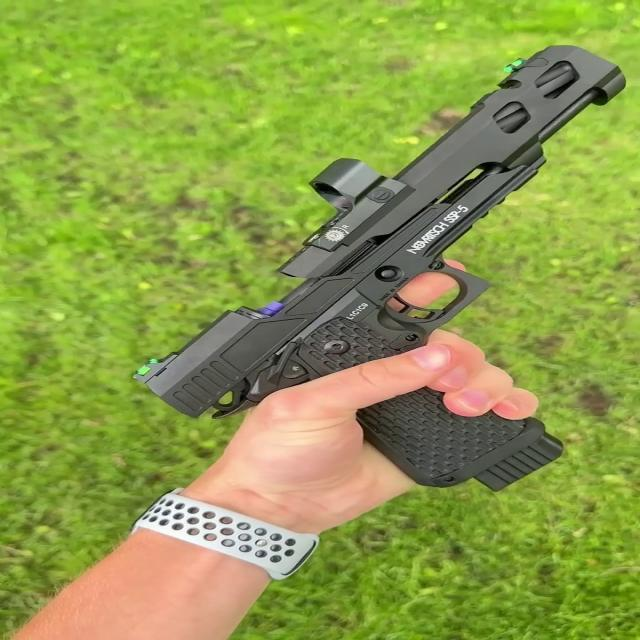Handgun: (135, 24, 616, 496)
